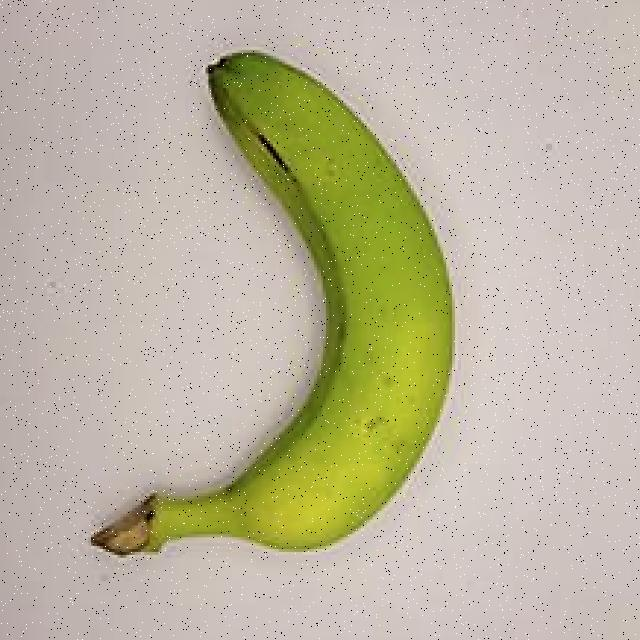Unripe: (56, 21, 466, 587)
